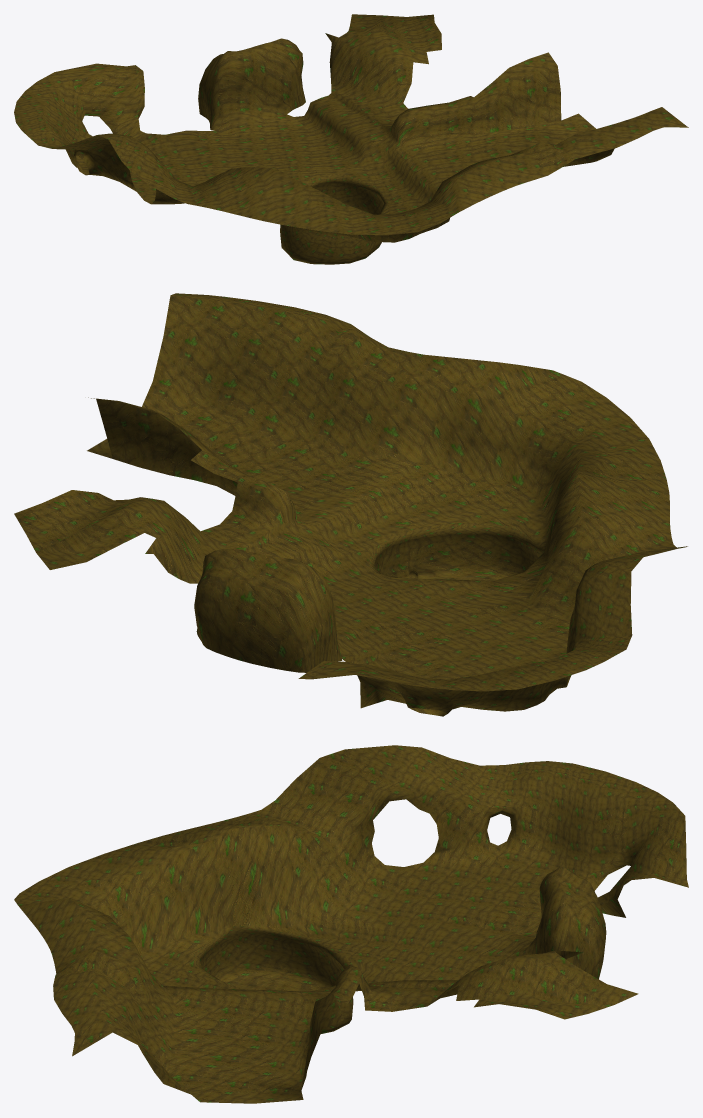
File: MIRKWOOD_AREA2.fbx
3 views of the same model, one above another, from view 1: azimuth 30°, elevation 25°; view 2: azimuth 150°, elevation 25°; view 3: azimuth 270°, elevation 25° (orthographic). The views are drawn at different scales.
Parts seen in each view (by area): view 1: MIRKWOOD_AREA2; view 2: MIRKWOOD_AREA2; view 3: MIRKWOOD_AREA2.
Part boxes in pixels (x1=…): MIRKWOOD_AREA2: x1=14, y1=14, x2=688, y2=264; MIRKWOOD_AREA2: x1=14, y1=293, x2=687, y2=716; MIRKWOOD_AREA2: x1=14, y1=745, x2=688, y2=1103.
Bounding box in the file's own units: 641745 × 144395 × 579605.
Materials: 1 (1 with a texture image).
